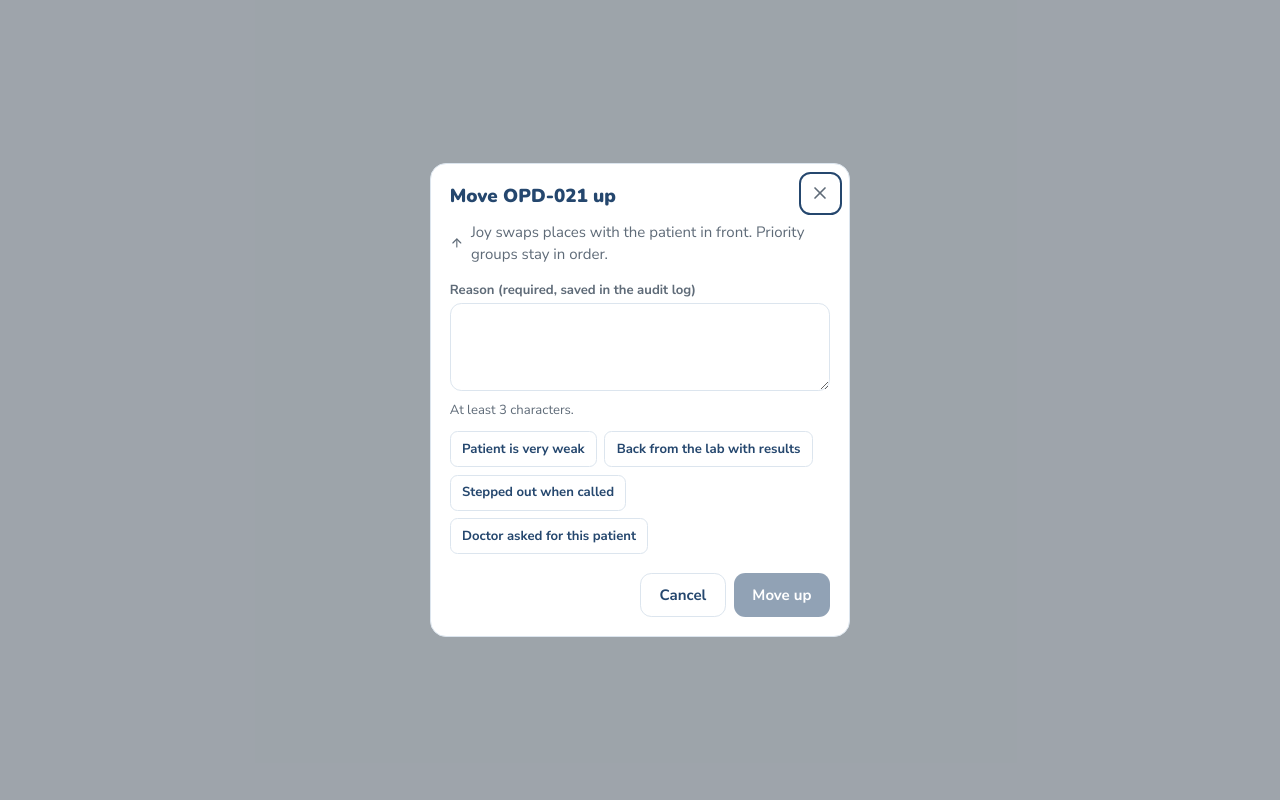
Test: ReorderDialog › cannot be confirmed without a reason of at least 3 characters
Later steps or results of the test are not shown.
Expected: the dialog "Move OPD-021 up" is shown, [430,163,850,637]
Expected: the button "Move up" is disabled, [734,573,830,617]
Type "  ok " into the text box labelled "Reason (required, saved in the audit log)" at (640, 347), box [450,303,830,391]
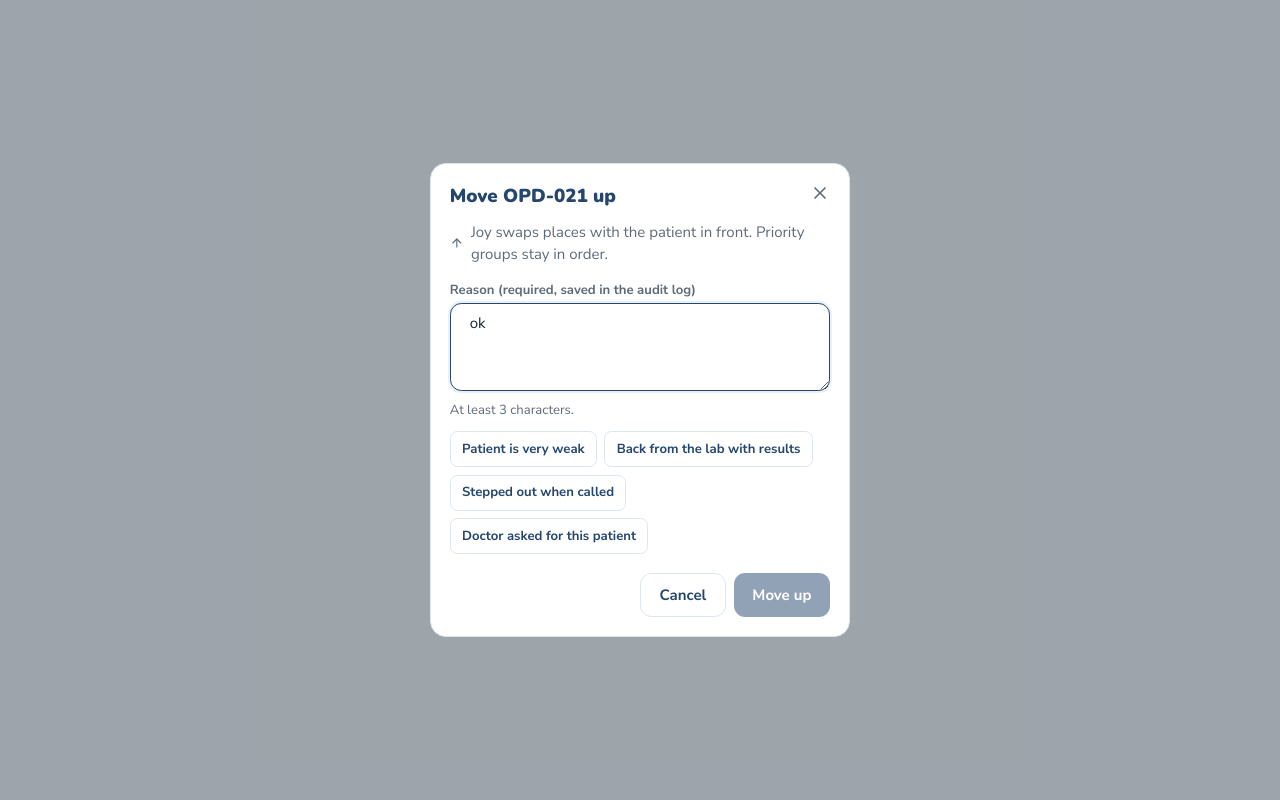
Expected: the button "Move up" is disabled, [734,573,830,617]
Type "ay" into the text box labelled "Reason (required, saved in the audit log)" at (640, 347), box [450,303,830,391]
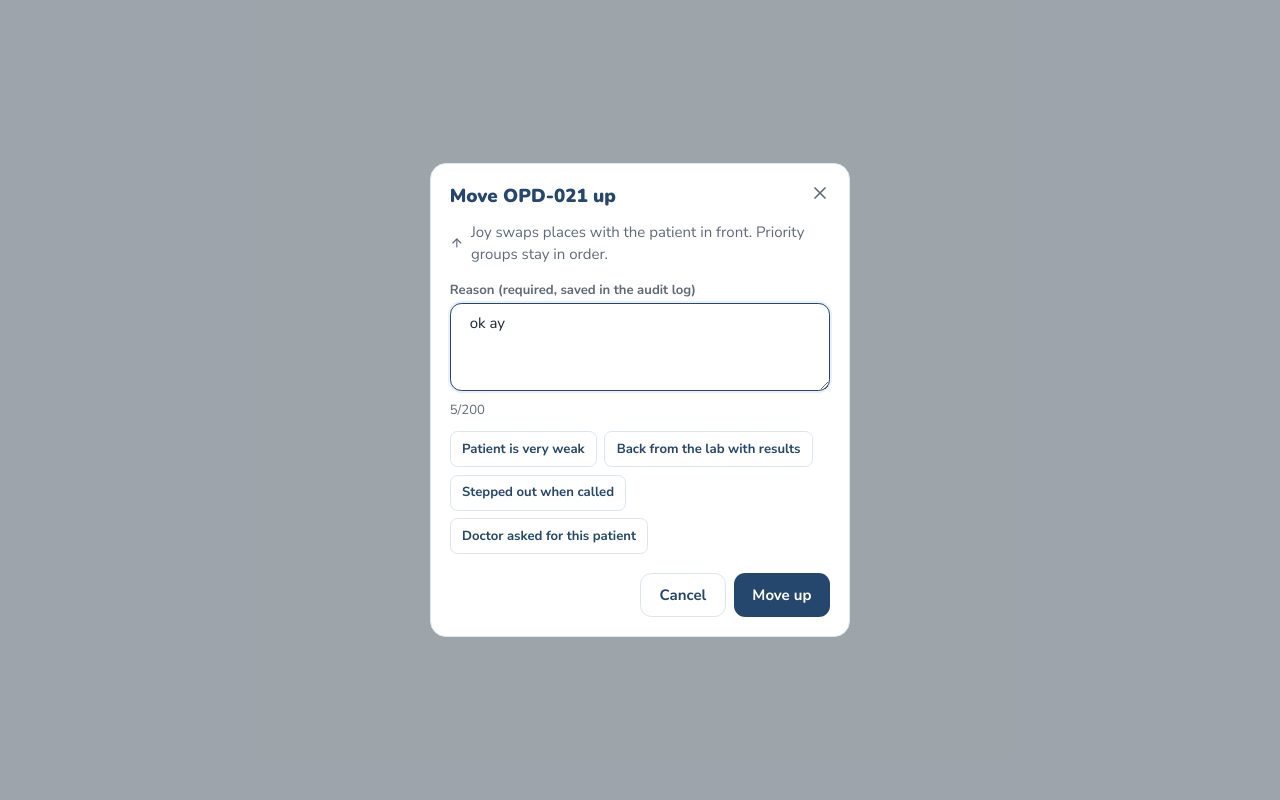
Expected: the button "Move up" is enabled, [734,573,830,617]
